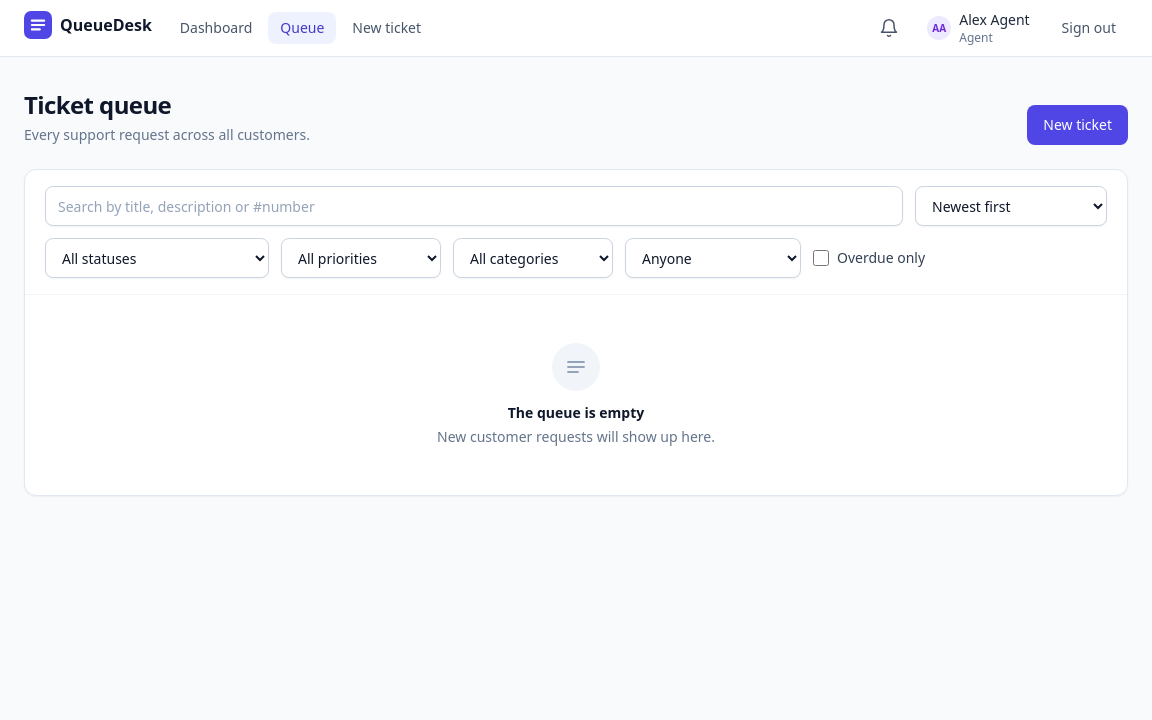
Scenario: ticket list page › sends filters to the API and keeps them in the URL
Select "Urgent" in the dropdown named "Filter by priority" at (361,258), box [281,238,441,278]
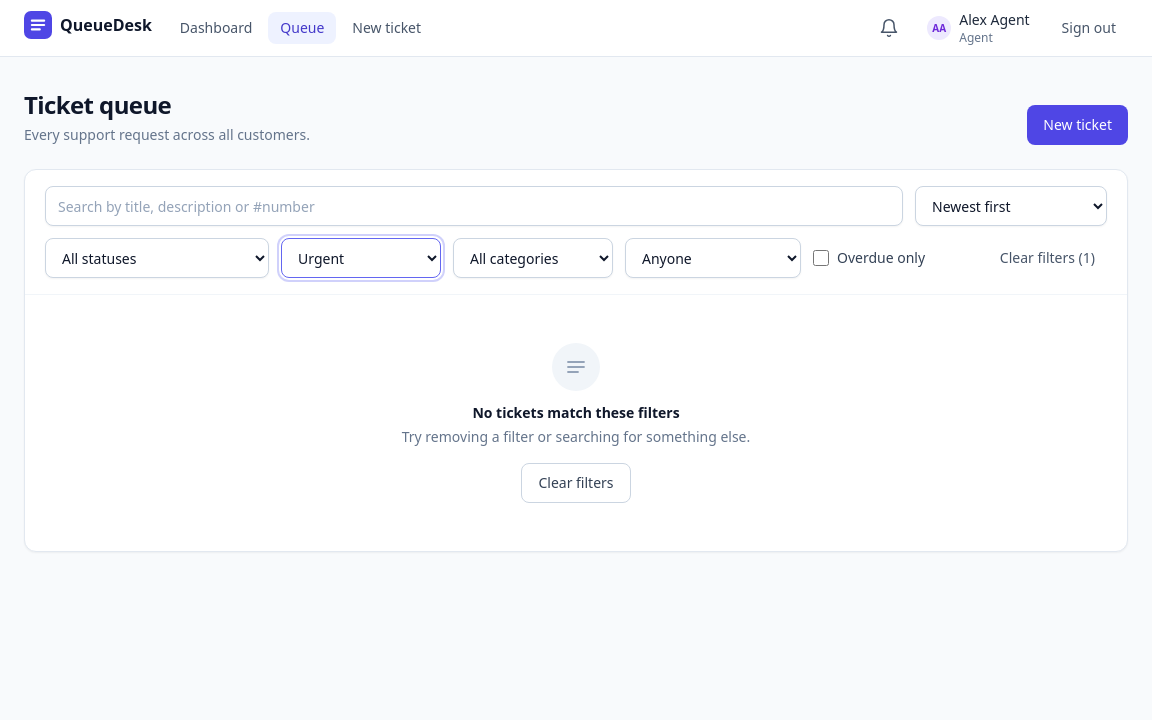
Expected: the heading "No tickets match these filters" is shown, [472,403,680,423]
